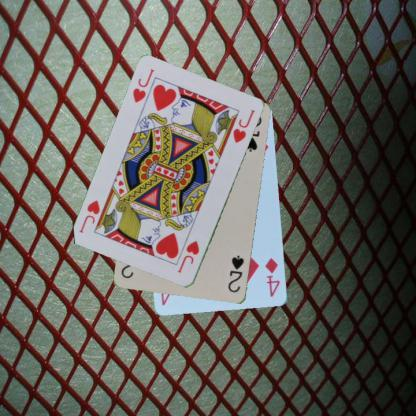2s: (226, 253, 246, 294)
4d: (262, 256, 282, 298)
Jh: (130, 66, 155, 104), (175, 238, 201, 274)
